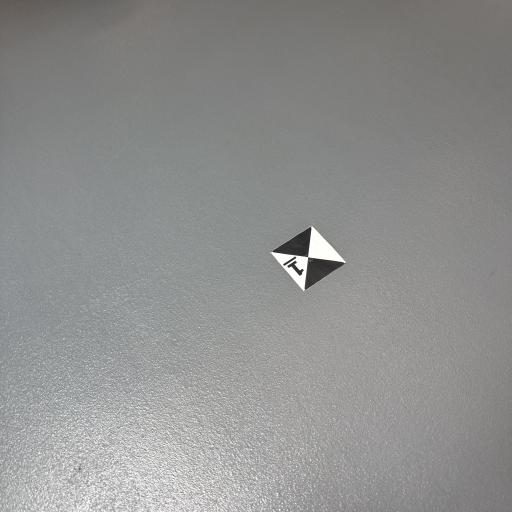target1: (272, 224, 348, 292)
